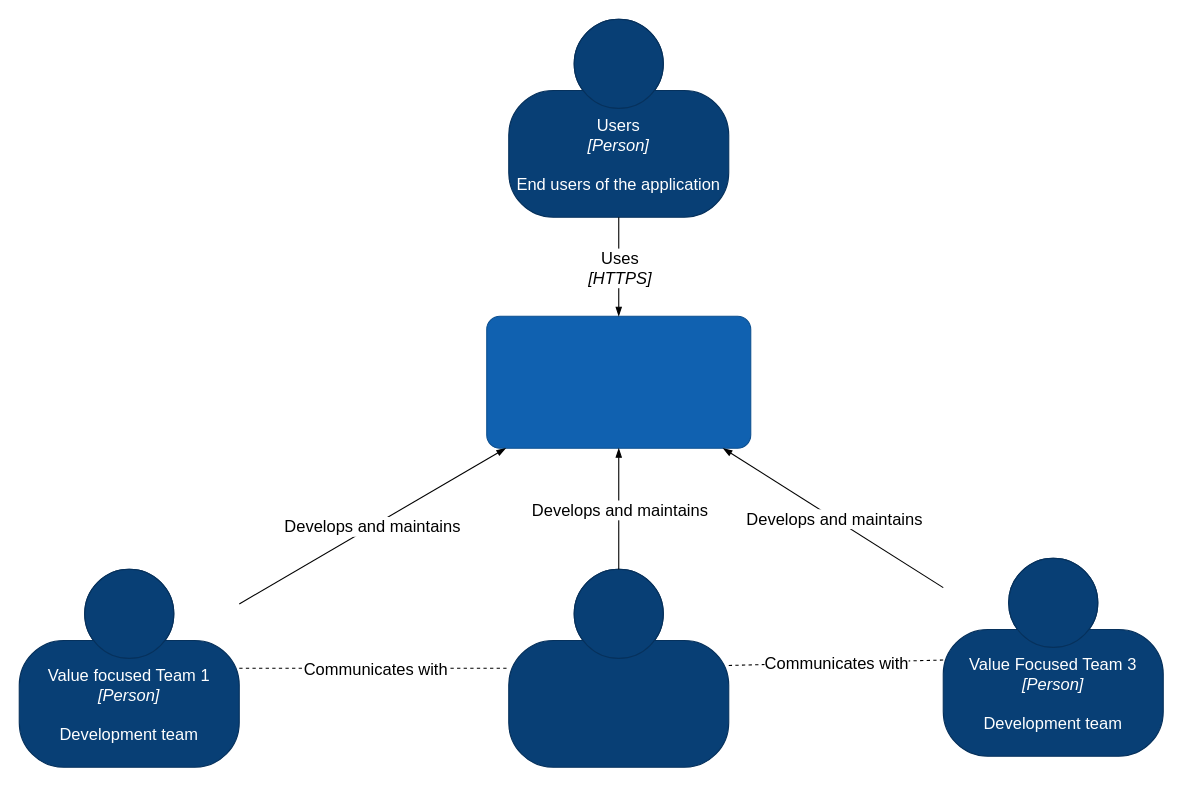
Some shapes in this 1183 by 787 pixel diagram are drawn without their labels. The centre of each missing label's shape, as x and y in pixels:
Value focused Team 2 [Person] Development team: (x=618, y=667)
Web Application [Software System] Main application system serving users: (x=618, y=381)
